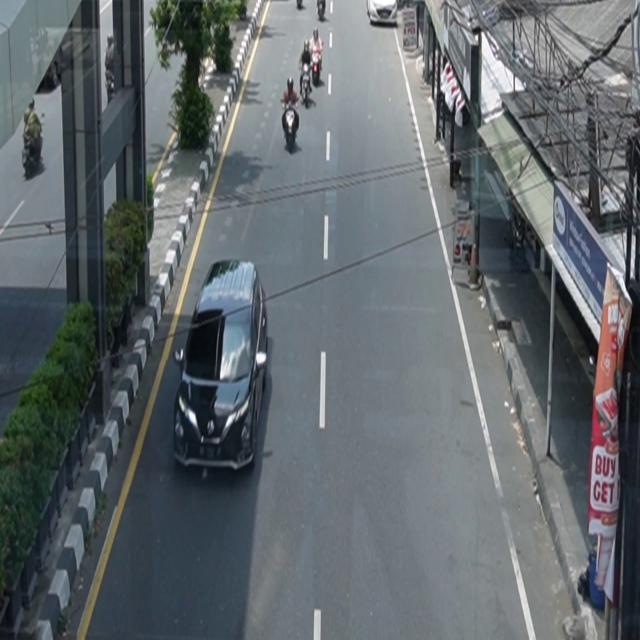car: (173, 259, 269, 476), (367, 1, 398, 26)
